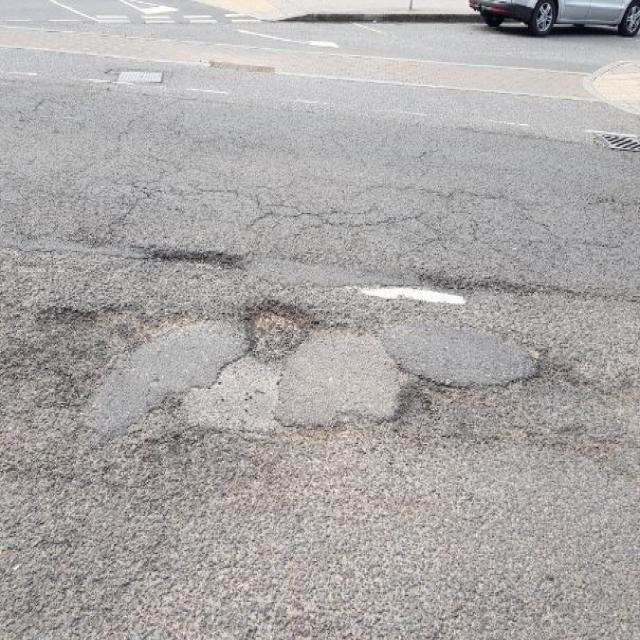Pothole: (37, 293, 173, 358), (381, 369, 474, 439), (241, 296, 320, 364), (140, 241, 246, 275)
